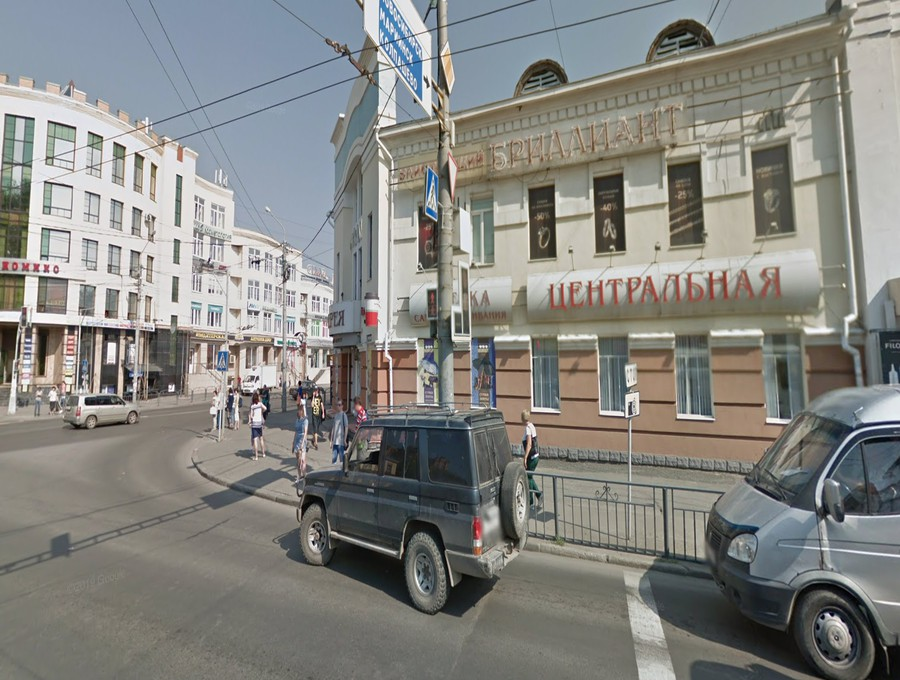Traffic Light-red: (423, 285, 441, 321)
